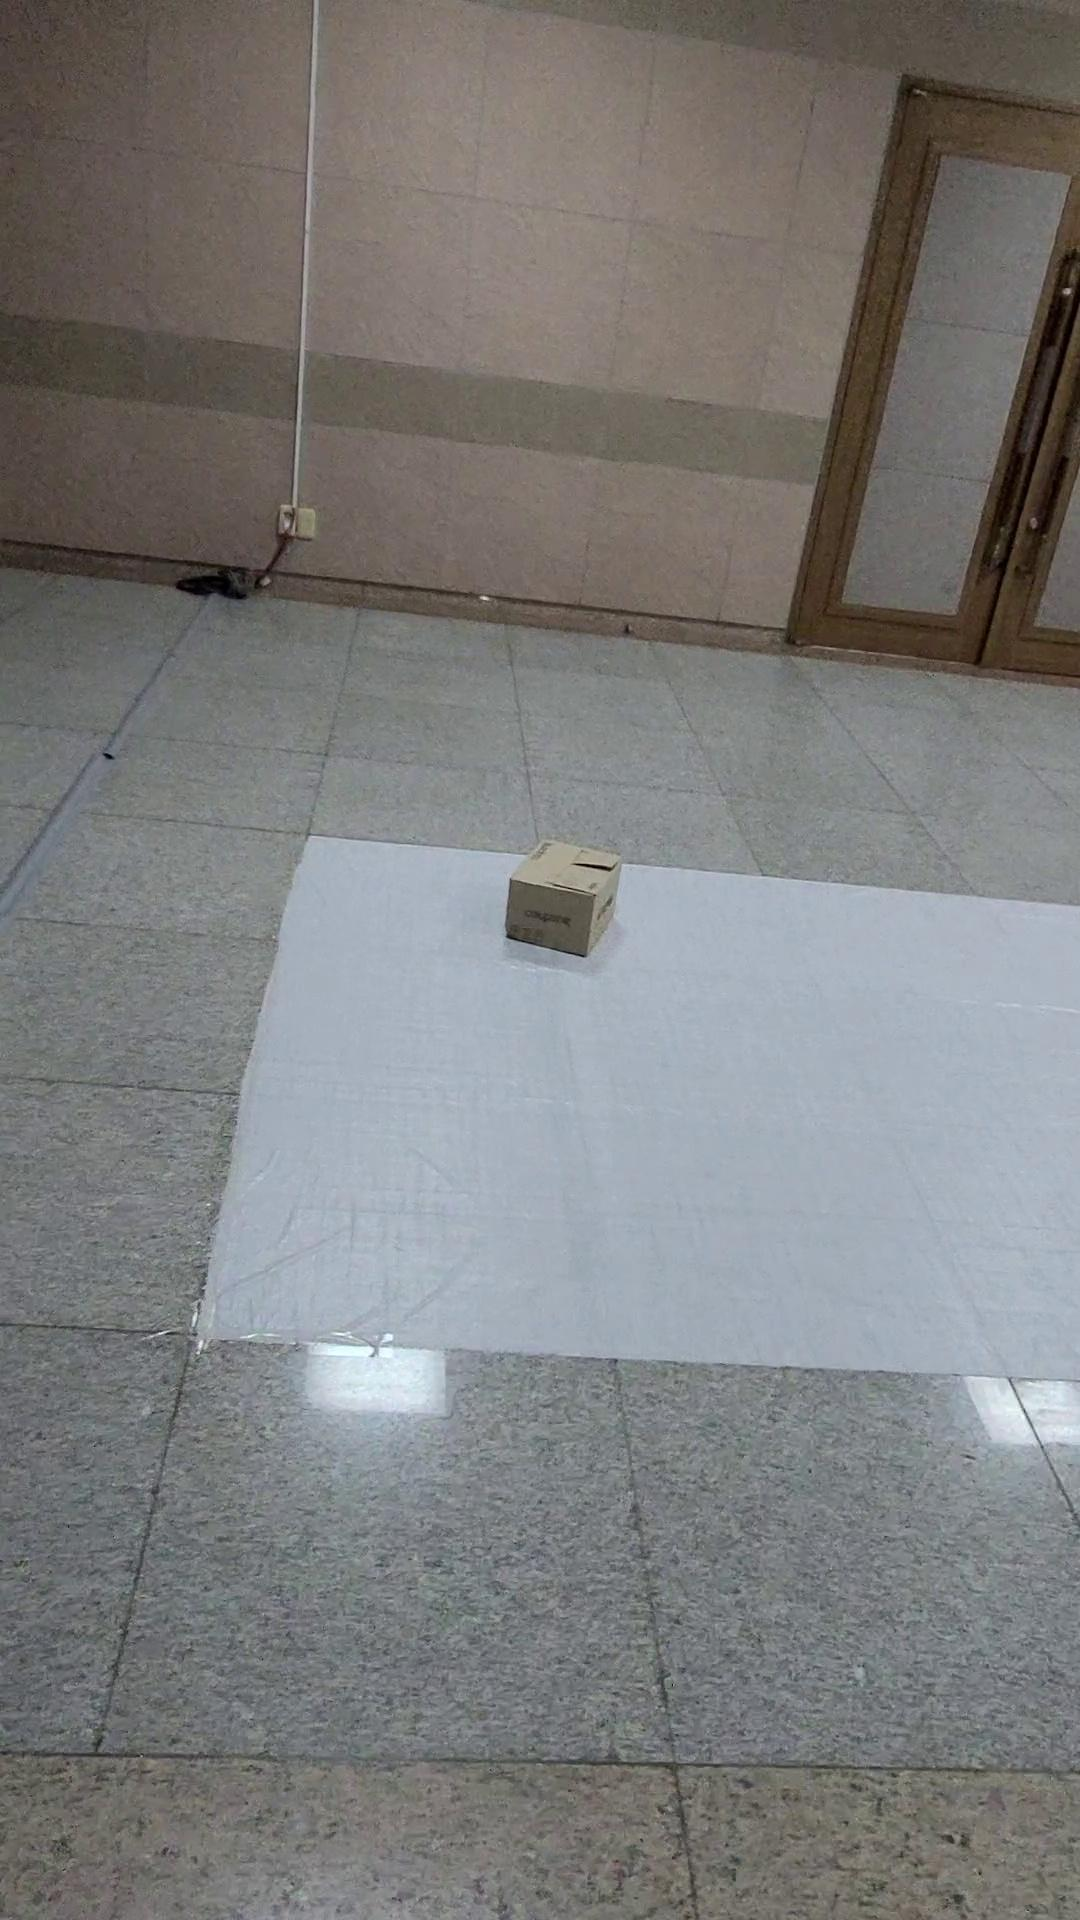Box: (488, 803, 651, 993)
